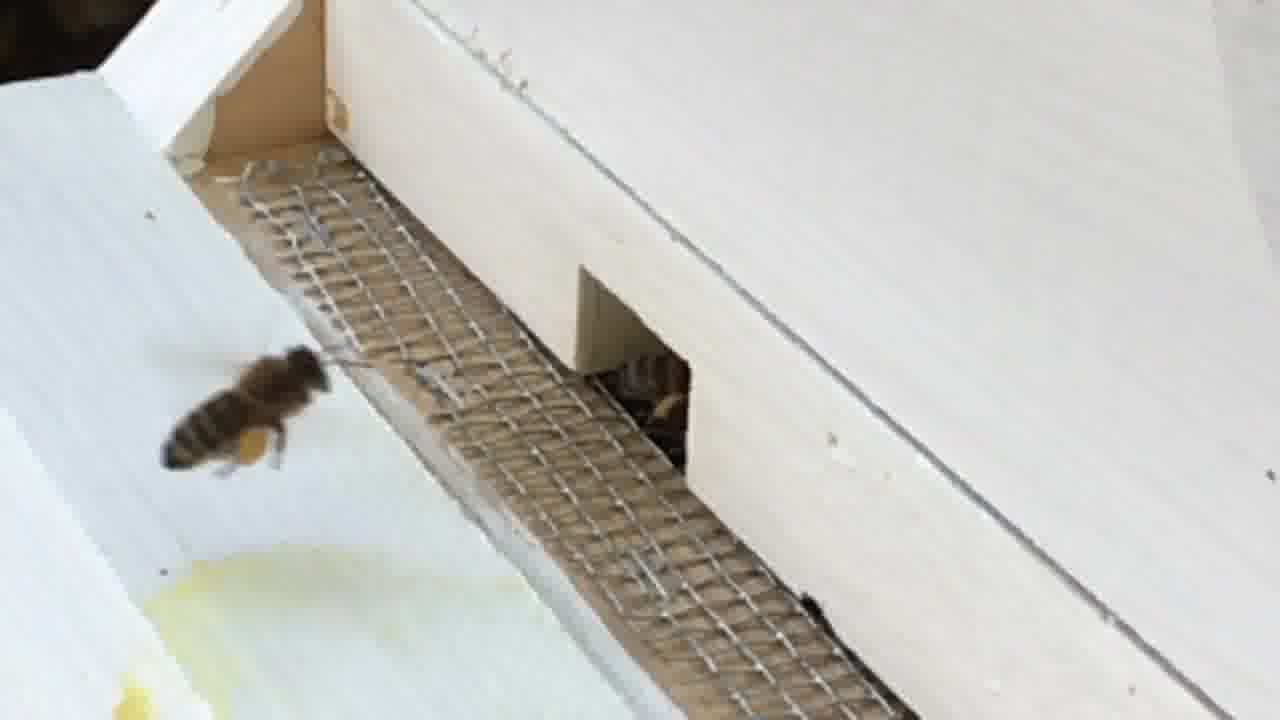pollen: (154, 348, 345, 486)
